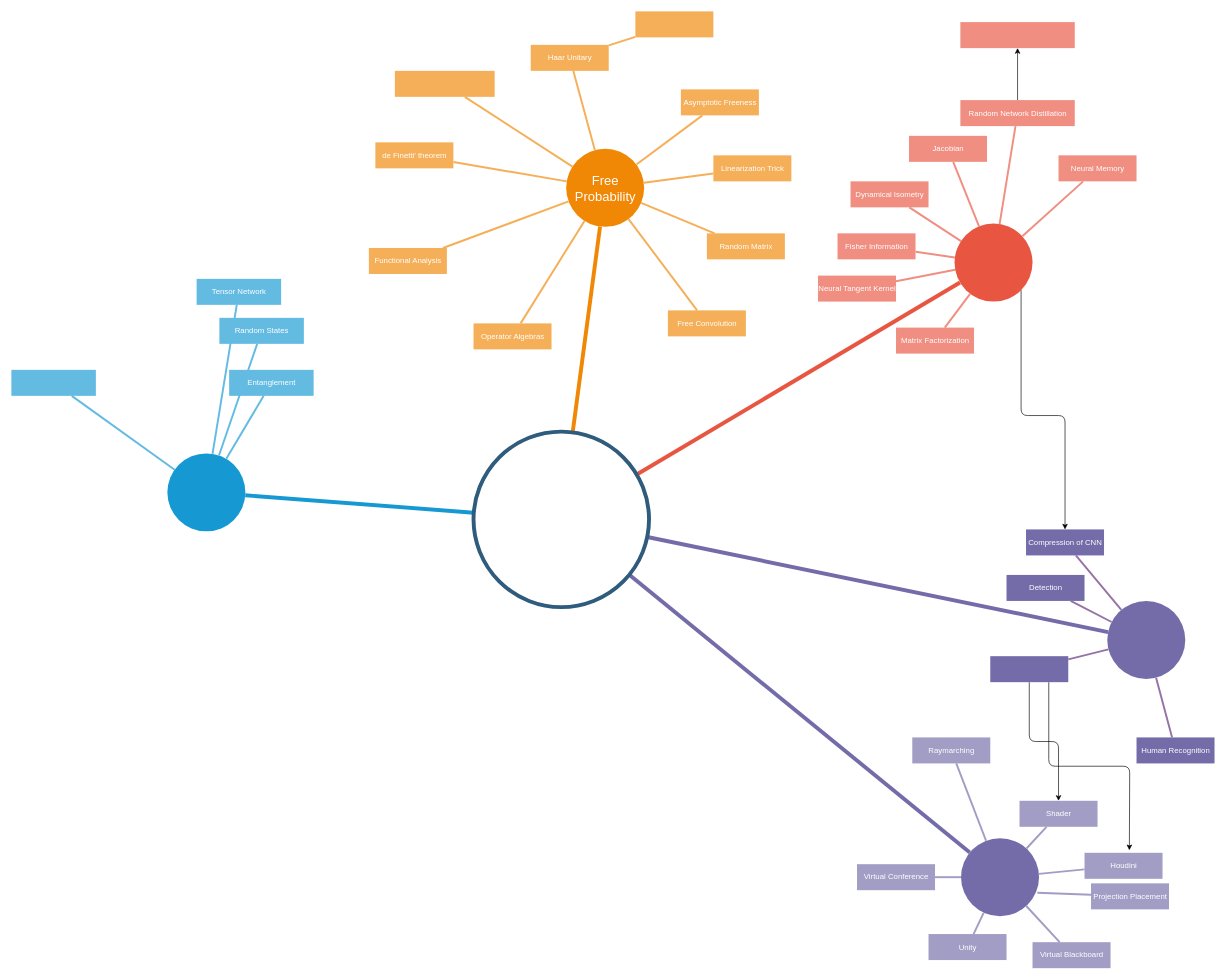
The diagram is 1225 pixels wide and 979 high, and some of its shapes have lost their labels. The centre of each missing label's shape, as x and y in pixels:
"Computer Graphics" belongs at (x=1029, y=669).
"Computer Vision" belongs at (x=1146, y=640).
"Machine Learning" belongs at (x=993, y=262).
"Quantum Information" belongs at (x=206, y=492).
"Reinforcement Learning" belongs at (x=1017, y=35).
"Research Interests" belongs at (x=561, y=519).
"Second Order Freeness" belongs at (x=444, y=84).
"Virtual Reality" belongs at (x=1000, y=877).
"Weingarten" belongs at (x=674, y=24).
